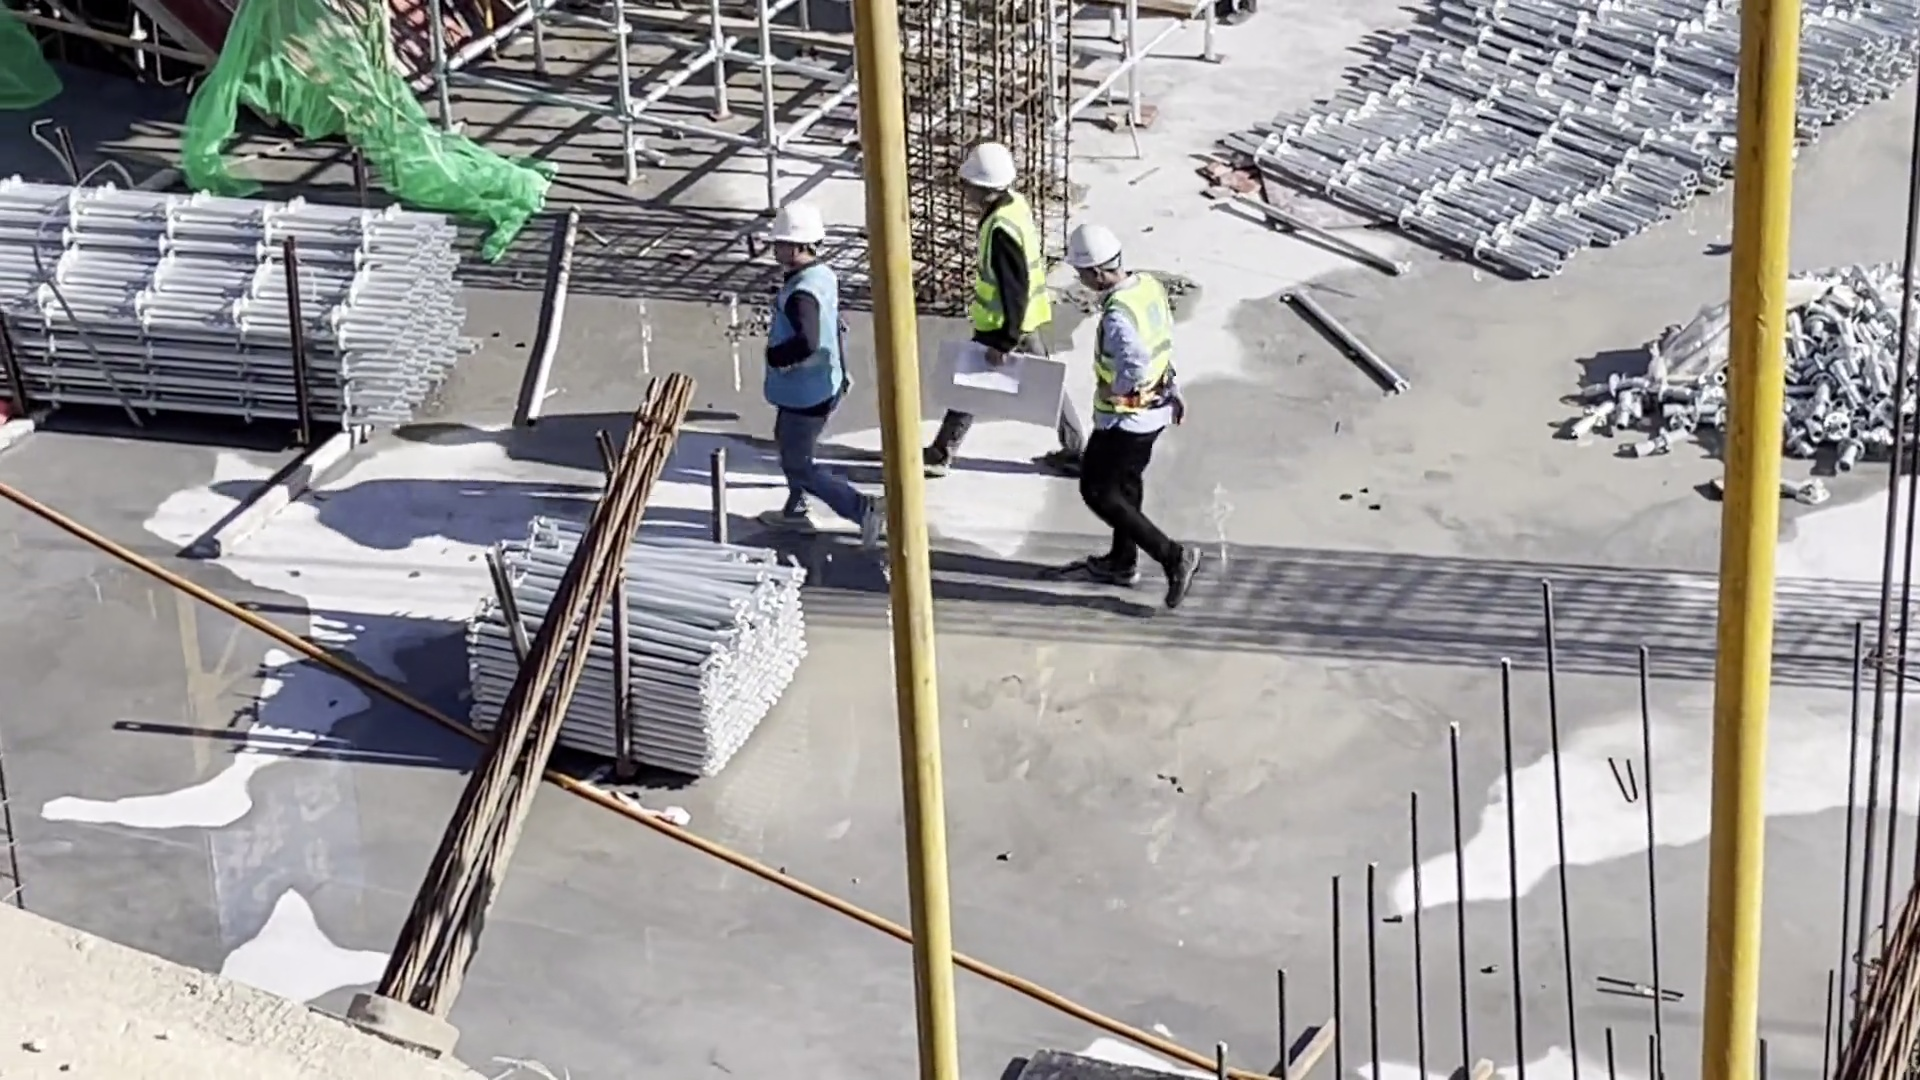helmet: (959, 143, 1017, 189), (762, 202, 823, 244), (1066, 225, 1122, 269)
person: (1062, 219, 1210, 615), (923, 134, 1085, 482), (756, 201, 889, 548)
vest: (765, 264, 847, 412), (969, 191, 1052, 331), (1094, 273, 1176, 411)
